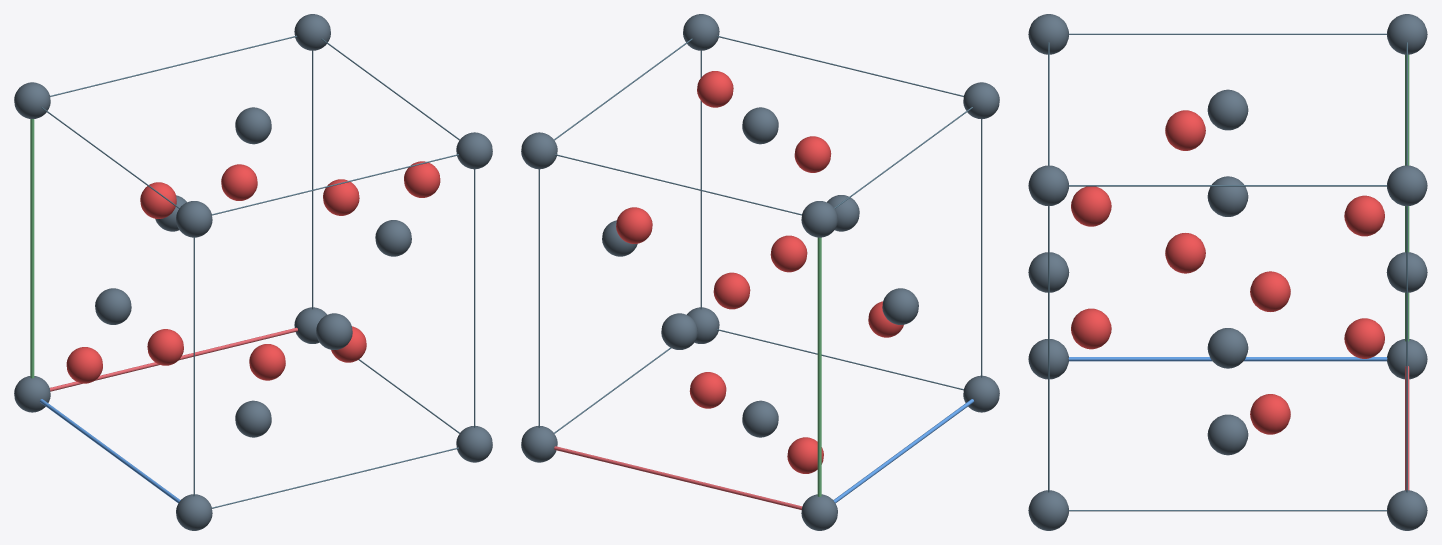
The model's file is chat-dry-ice.glb.
3 views of the same model, side by side, from view 1: azimuth 30°, elevation 25°; view 2: azimuth 150°, elevation 25°; view 3: azimuth 270°, elevation 25° (orthographic). The views are drawn at different scales.
Visible parts, largest first — view 1: C · C · 1 (×13), O · O · 1 (×8), Ô mạng và các trục a, b, c; view 2: C · C · 1 (×14), O · O · 1 (×8), Ô mạng và các trục a, b, c; view 3: C · C · 1 (×14), O · O · 1 (×8), Ô mạng và các trục a, b, c.
Boxes of the visible parts, x1,y1,x2,y2 form: C · C · 1 (×13): (14,14,492,530); O · O · 1 (×8): (66,161,440,383); Ô mạng và các trục a, b, c: (30,35,475,508); C · C · 1 (×14): (521,14,999,530); O · O · 1 (×8): (616,71,903,473); Ô mạng và các trục a, b, c: (538,35,982,509); C · C · 1 (×14): (1028,14,1427,530); O · O · 1 (×8): (1071,110,1384,434); Ô mạng và các trục a, b, c: (1048,33,1409,511).
Bounding box in the file's own units: 6.26 × 6.26 × 6.26.
